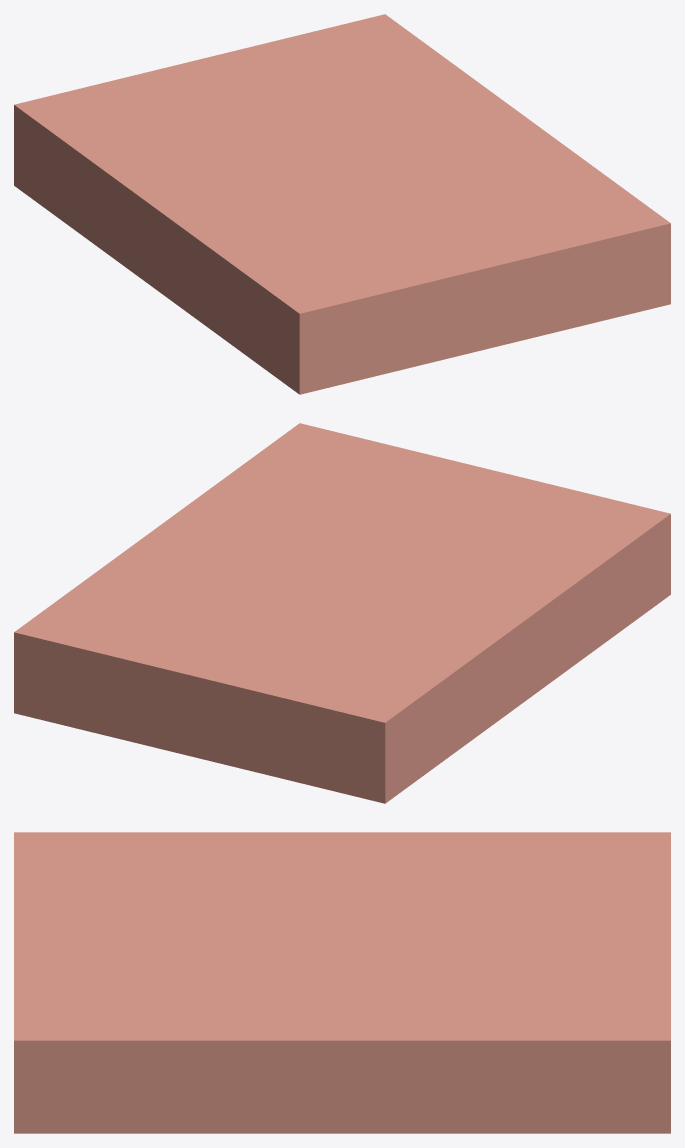
File: book.glb
The picture shows the model from 3 angles, top to bottom: view 1: azimuth 30°, elevation 25°; view 2: azimuth 150°, elevation 25°; view 3: azimuth 270°, elevation 25°; orthographic projection. The views are drawn at different scales.
Parts seen in each view (by area): view 1: book; view 2: book; view 3: book.
Part boxes in pixels (x1,y1,x2,y2): book: [14, 14, 670, 394]; book: [14, 423, 670, 803]; book: [14, 832, 670, 1133].
Size of the model in its own units: 0.36 by 0.075 by 0.48.
